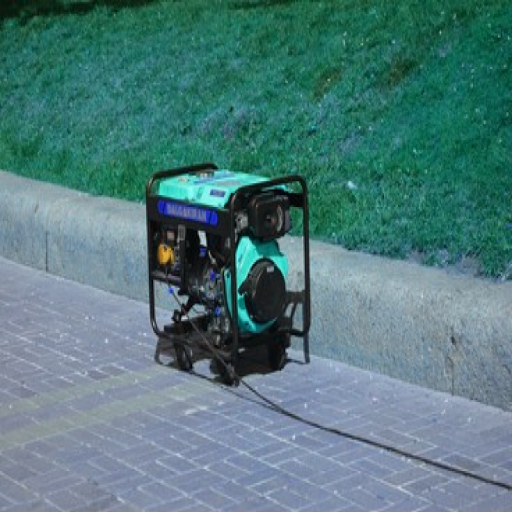portable_generator: (146, 163, 313, 352)
